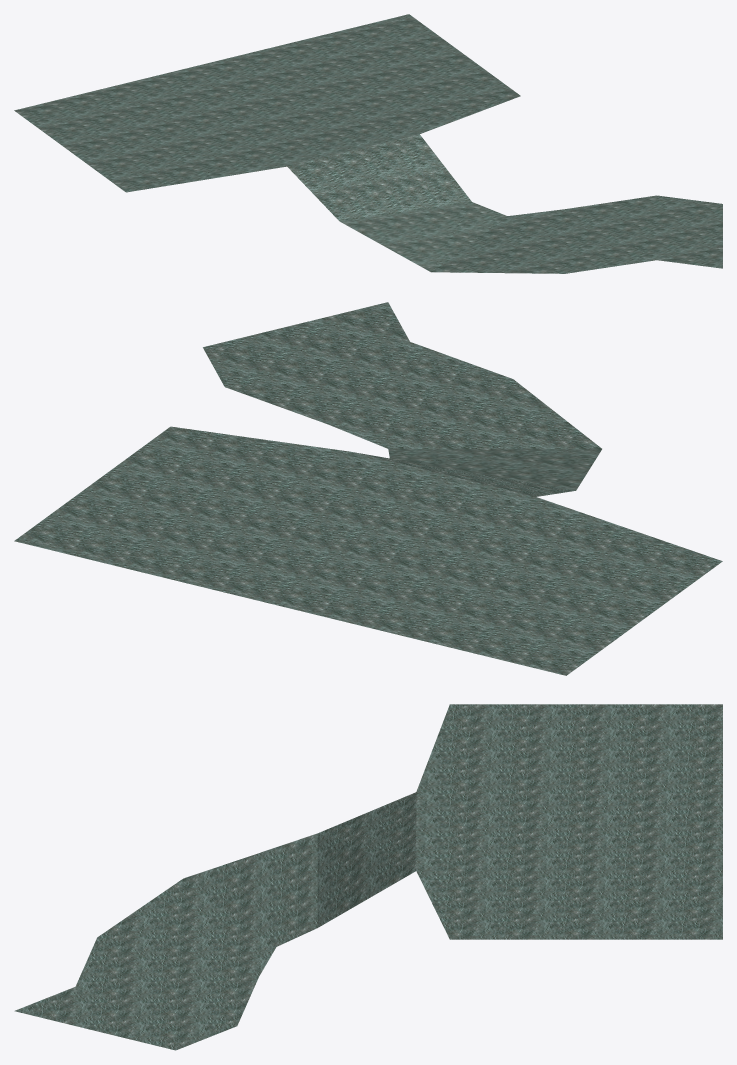
File: CaveLevel1_part1_Water.DAE
3 views of the same model, one above another, from view 1: azimuth 30°, elevation 25°; view 2: azimuth 150°, elevation 25°; view 3: azimuth 270°, elevation 25° (orthographic). The views are drawn at different scales.
Parts seen in each view (by area): view 1: Plane001; view 2: Plane001; view 3: Plane001.
Part boxes in pixels (left/top/right/bottom): Plane001: left=14, top=14, right=722, bottom=273; Plane001: left=14, top=302, right=722, bottom=675; Plane001: left=14, top=704, right=722, bottom=1050.
Bounding box in the file's own units: 35.02 × 36.4 × 3.27.
